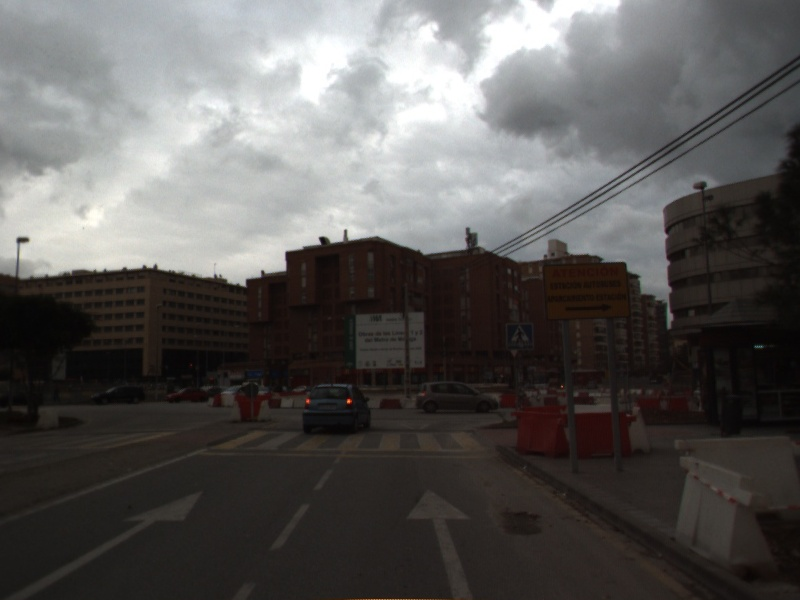STRAIGHT: (1, 484, 211, 600), (402, 487, 472, 600)
